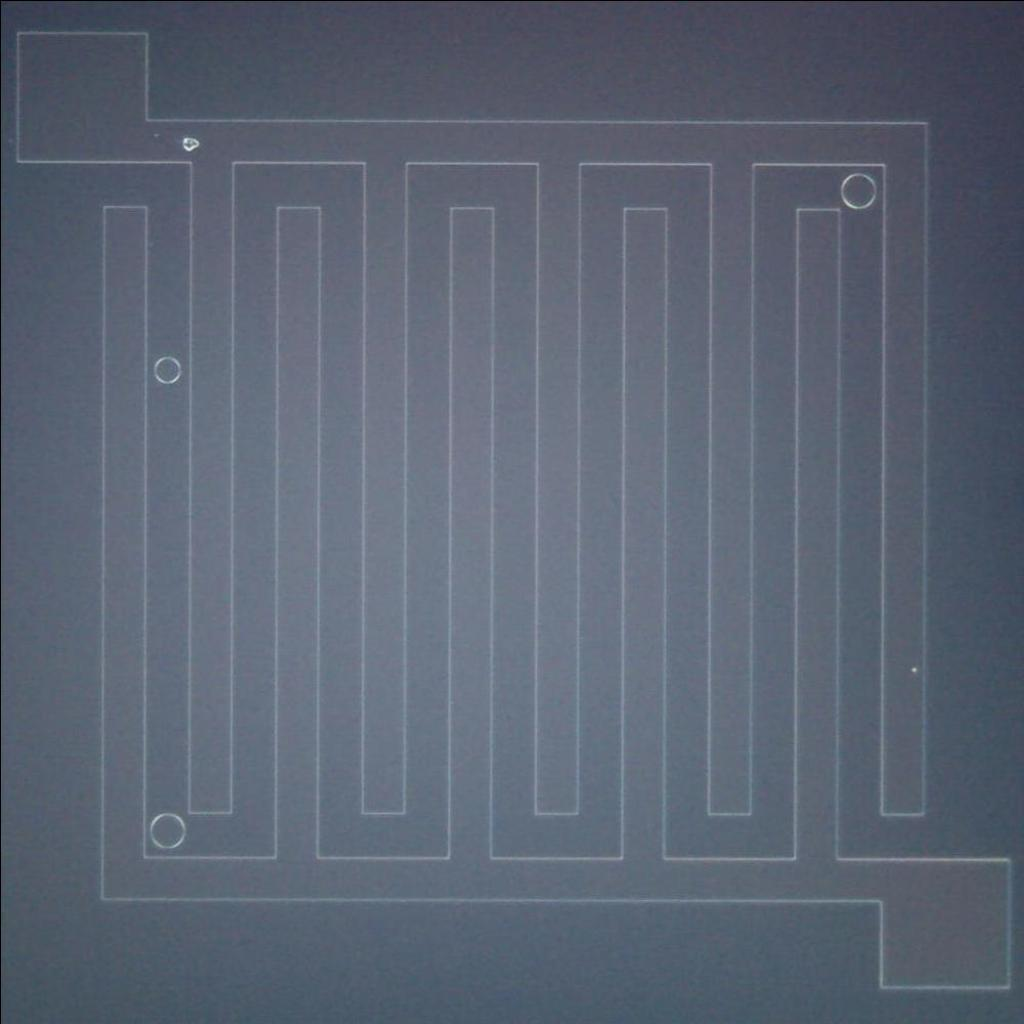circle: (147, 810, 188, 850), (836, 170, 878, 208), (150, 352, 184, 386)
dot: (899, 654, 927, 683)
spot: (177, 130, 204, 154)
